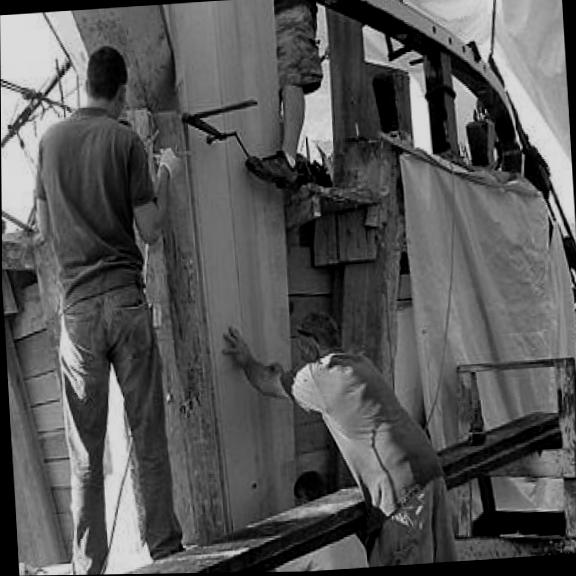no_safety_vest: (35, 106, 147, 294), (293, 347, 423, 499)
